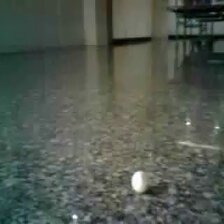w: (131, 171, 150, 192)
